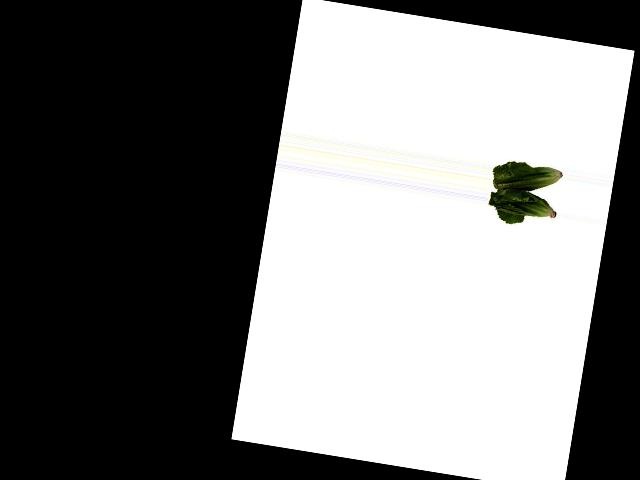lettuce: (486, 154, 565, 224)
